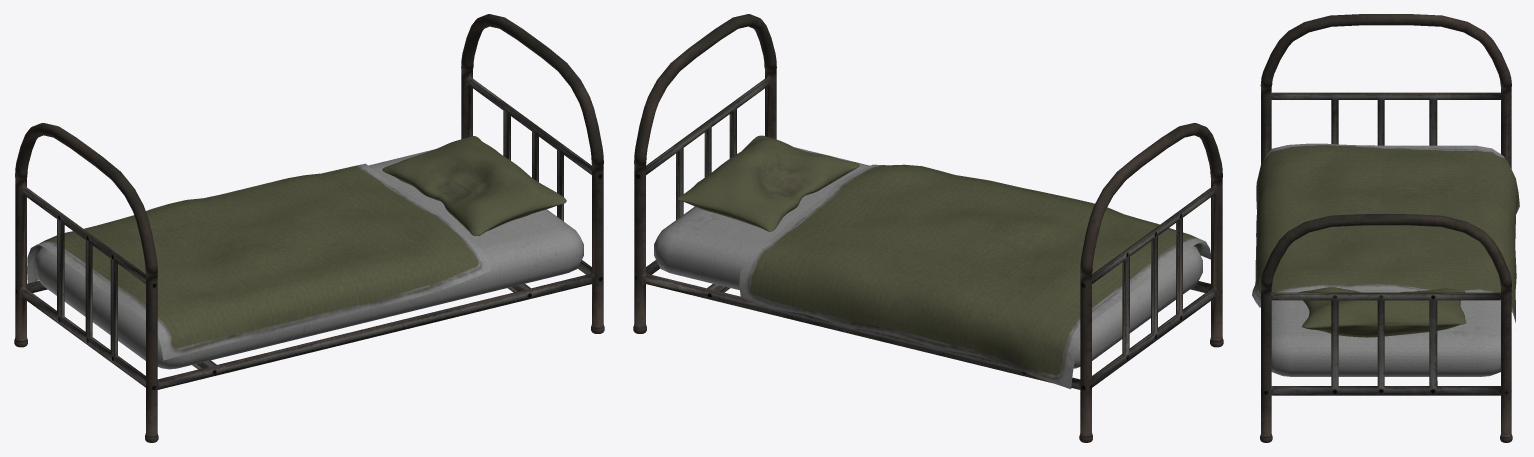
The model's file is bed.glb.
3 views of the same model, side by side, from view 1: azimuth 30°, elevation 25°; view 2: azimuth 150°, elevation 25°; view 3: azimuth 270°, elevation 25° (orthographic). The views are drawn at different scales.
Visible parts, largest first — view 1: Object_2; view 2: Object_2; view 3: Object_2.
Part boxes in pixels (x1,y1,x2,y2): Object_2: (14,14,604,442); Object_2: (633,14,1223,442); Object_2: (1252,14,1519,442).
Bounding box in the file's own units: 2.59 × 1.33 × 1.43.
Materials: 1 (1 with a texture image).
